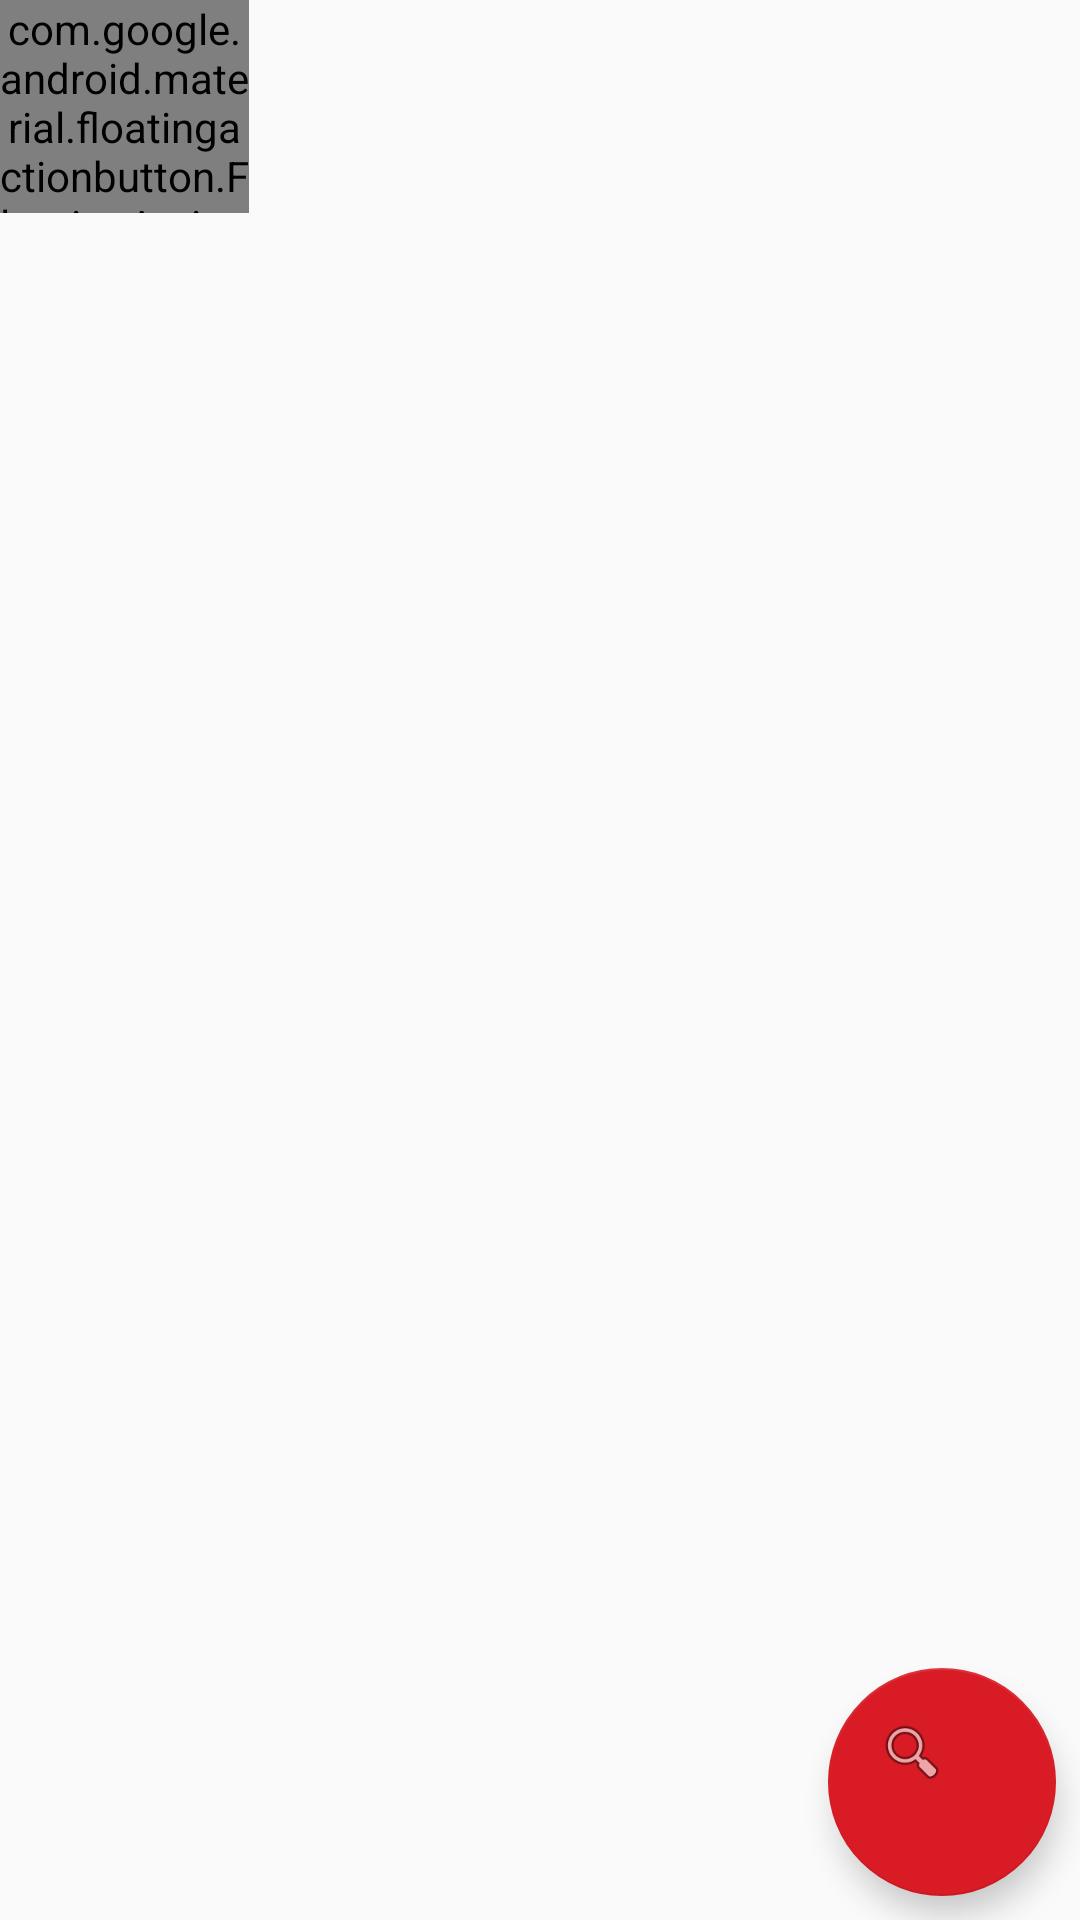

Point at icon controls on the screen. Image size 1080*1920, points as [x,y].
search: [942,1782]
